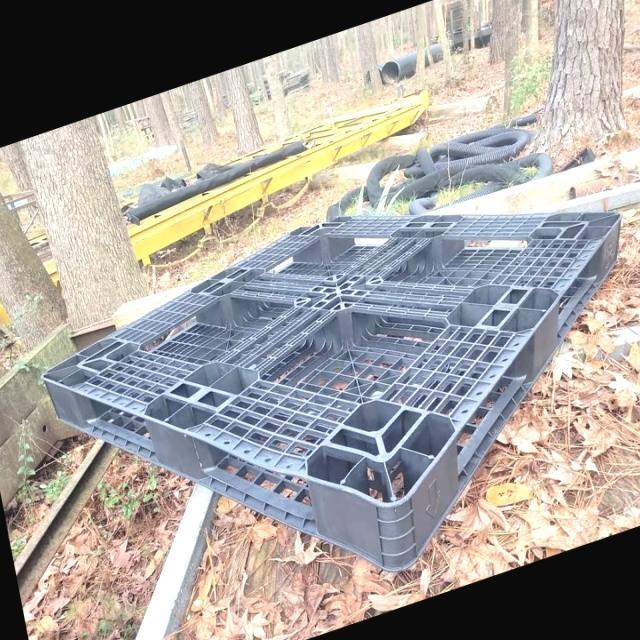non-igps: (34, 207, 629, 580)
